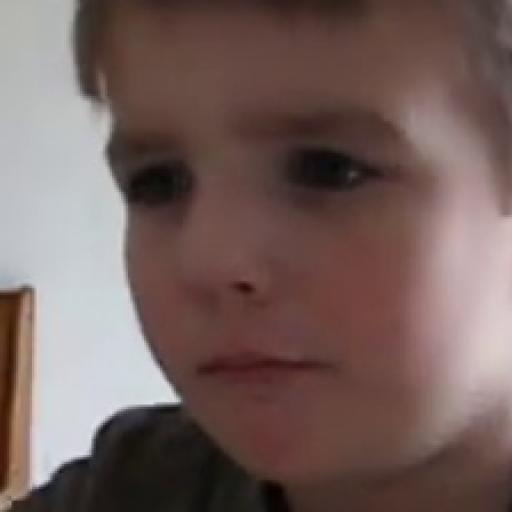Autism: (34, 4, 512, 484)
